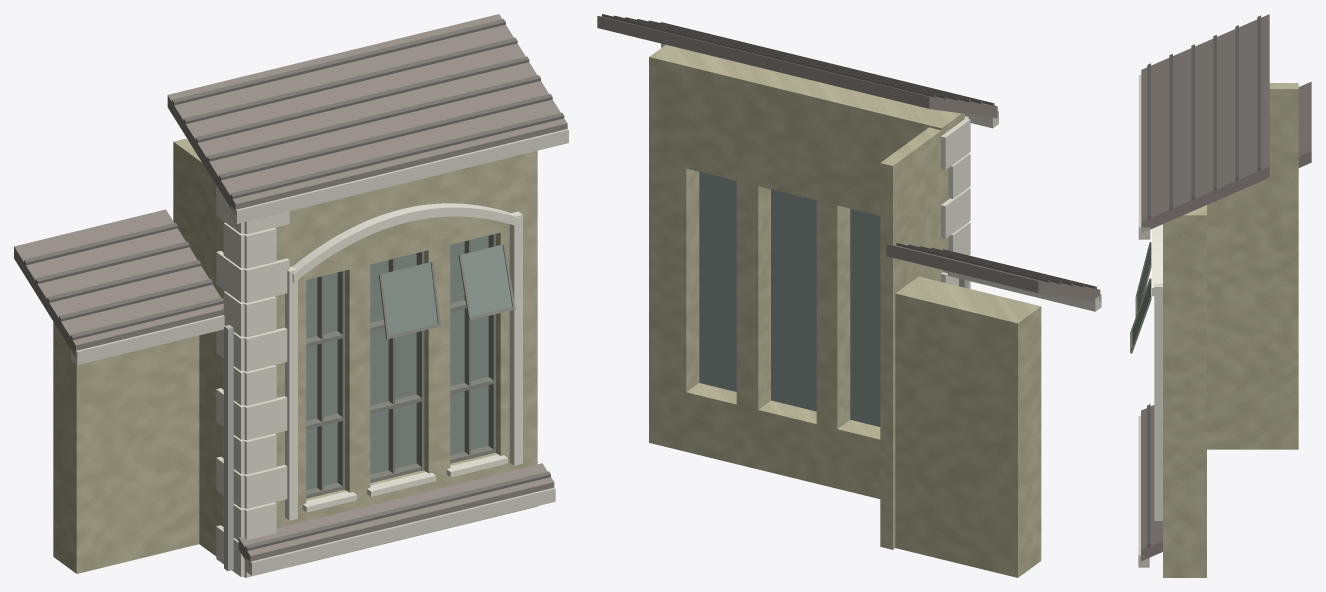
The model's file is yongjia-37-stepped-eaves-triple-window-far.glb.
3 renders of one model, left to right at view 1: azimuth 30°, elevation 25°; view 2: azimuth 150°, elevation 25°; view 3: azimuth 270°, elevation 25°, orthographic. The views are drawn at different scales.
Visible parts, largest first — view 1: 永嘉路37号住宅错层檐口与三联长窗; view 2: 永嘉路37号住宅错层檐口与三联长窗; view 3: 永嘉路37号住宅错层檐口与三联长窗.
Part boxes in pixels (x1,y1,x2,y2): 永嘉路37号住宅错层檐口与三联长窗: (14, 14, 568, 577); 永嘉路37号住宅错层檐口与三联长窗: (597, 14, 1101, 577); 永嘉路37号住宅错层檐口与三联长窗: (1130, 14, 1311, 577).
Bounding box in the file's own units: 4.8 × 4.43 × 1.73.
Materials: 9 (1 with a texture image).
